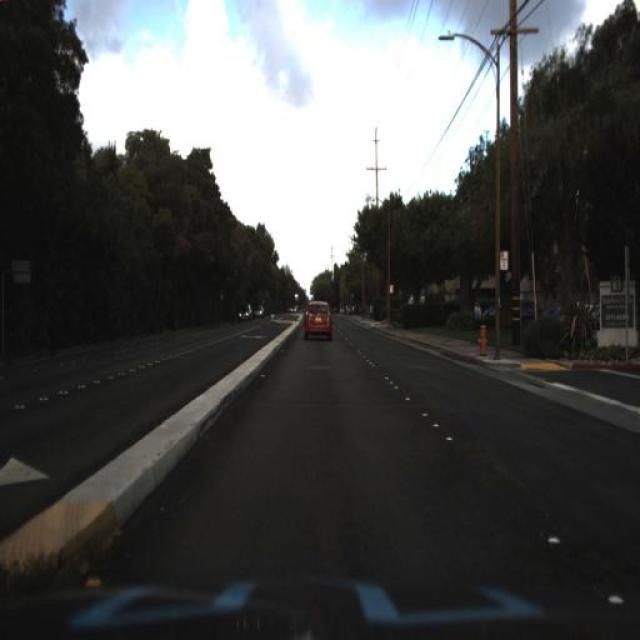car: (303, 298, 336, 341), (253, 300, 266, 320)
